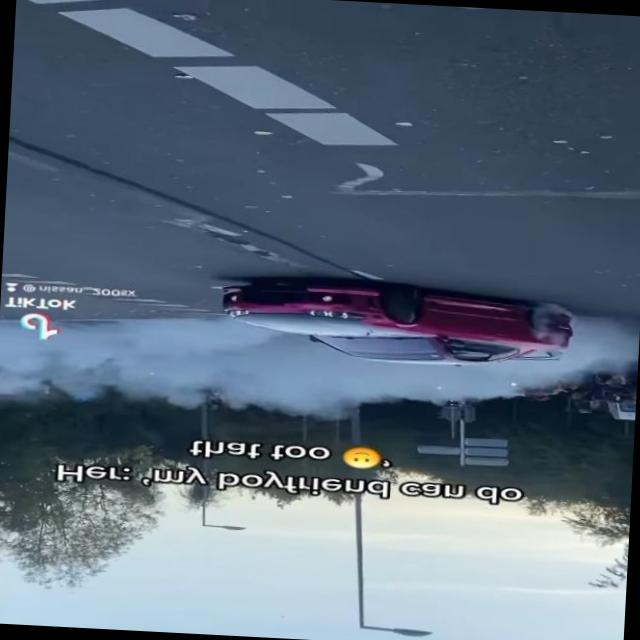car: (213, 275, 585, 373)
